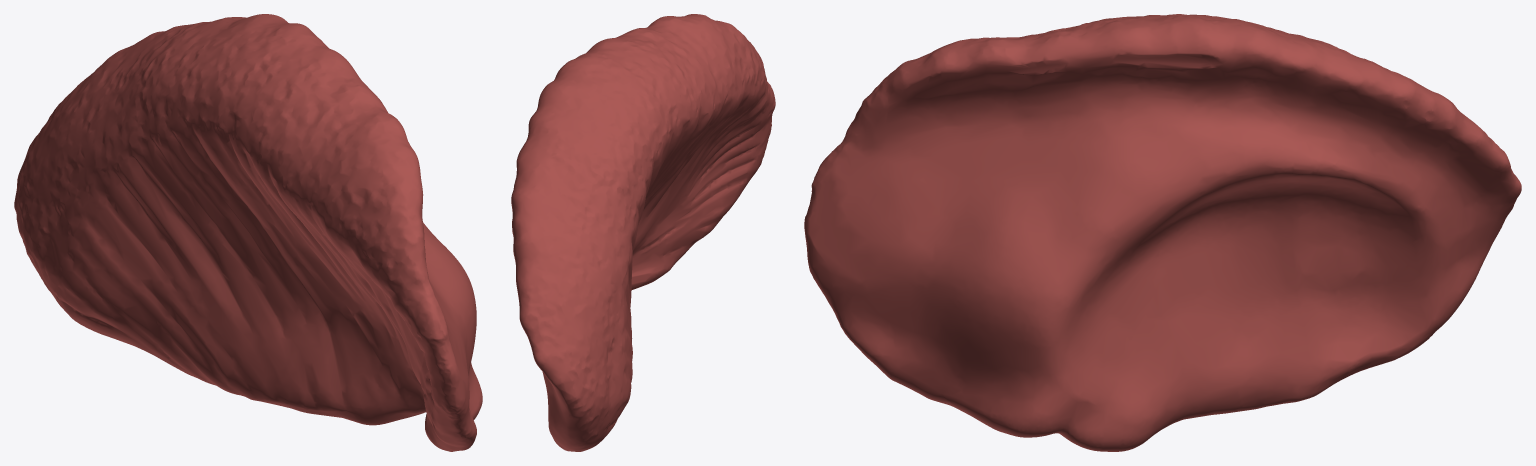
Rendered from FMA72908.glb.
3 renders of one model, left to right at view 1: azimuth 30°, elevation 25°; view 2: azimuth 150°, elevation 25°; view 3: azimuth 270°, elevation 25°, orthographic. The views are drawn at different scales.
Parts seen in each view (by area): view 1: FMA72908; view 2: FMA72908; view 3: FMA72908.
Part boxes in pixels (left/top/right/bottom): FMA72908: left=14, top=14, right=482, bottom=451; FMA72908: left=511, top=14, right=775, bottom=451; FMA72908: left=804, top=14, right=1521, bottom=451.
Size of the model in its own units: 0.0217 by 0.0314 by 0.0511.
